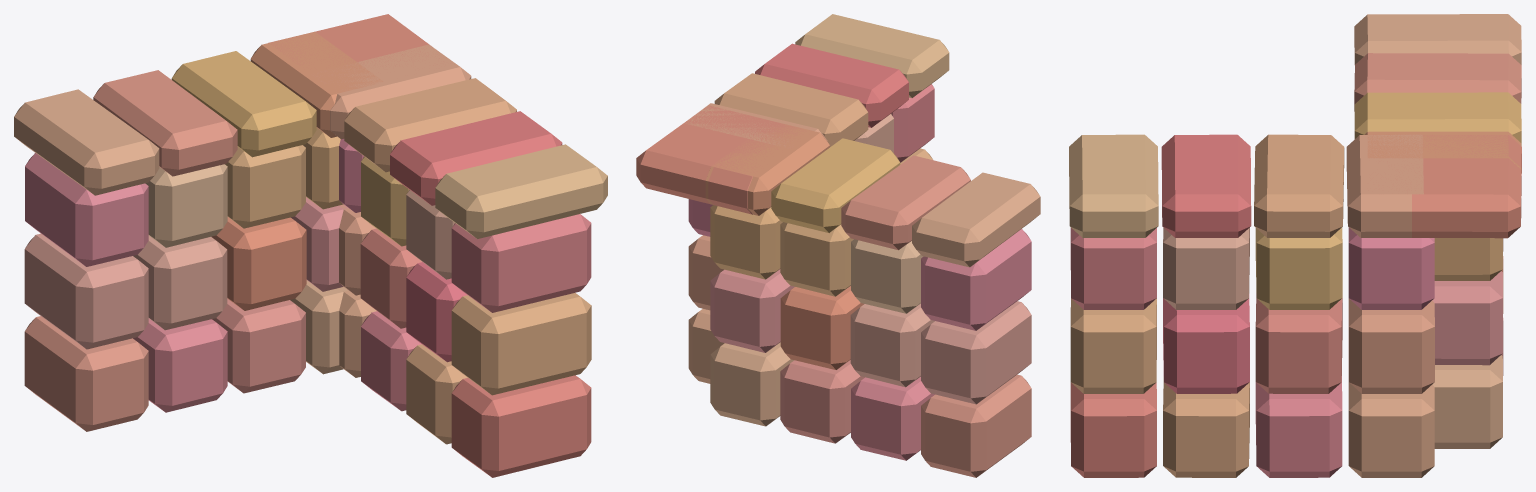
Rendered from WC_RIVER_Bank_Inner_A.glb.
3 renders of one model, left to right at view 1: azimuth 30°, elevation 25°; view 2: azimuth 150°, elevation 25°; view 3: azimuth 270°, elevation 25°, orthographic. The views are drawn at different scales.
Parts seen in each view (by area): view 1: WC_RIVER_Bank_Inner_A_RenderMesh; view 2: WC_RIVER_Bank_Inner_A_RenderMesh; view 3: WC_RIVER_Bank_Inner_A_RenderMesh.
Part boxes in pixels (<box>): WC_RIVER_Bank_Inner_A_RenderMesh: <box>14,14,607,477</box>; WC_RIVER_Bank_Inner_A_RenderMesh: <box>636,14,1040,477</box>; WC_RIVER_Bank_Inner_A_RenderMesh: <box>1069,14,1521,477</box>.
Size of the model in its own units: 1.22 by 0.8675 by 1.22.
